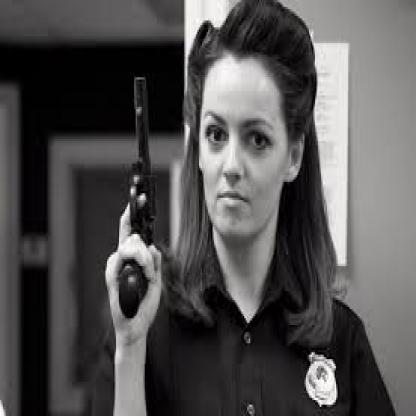Pistol: (106, 71, 156, 314)
